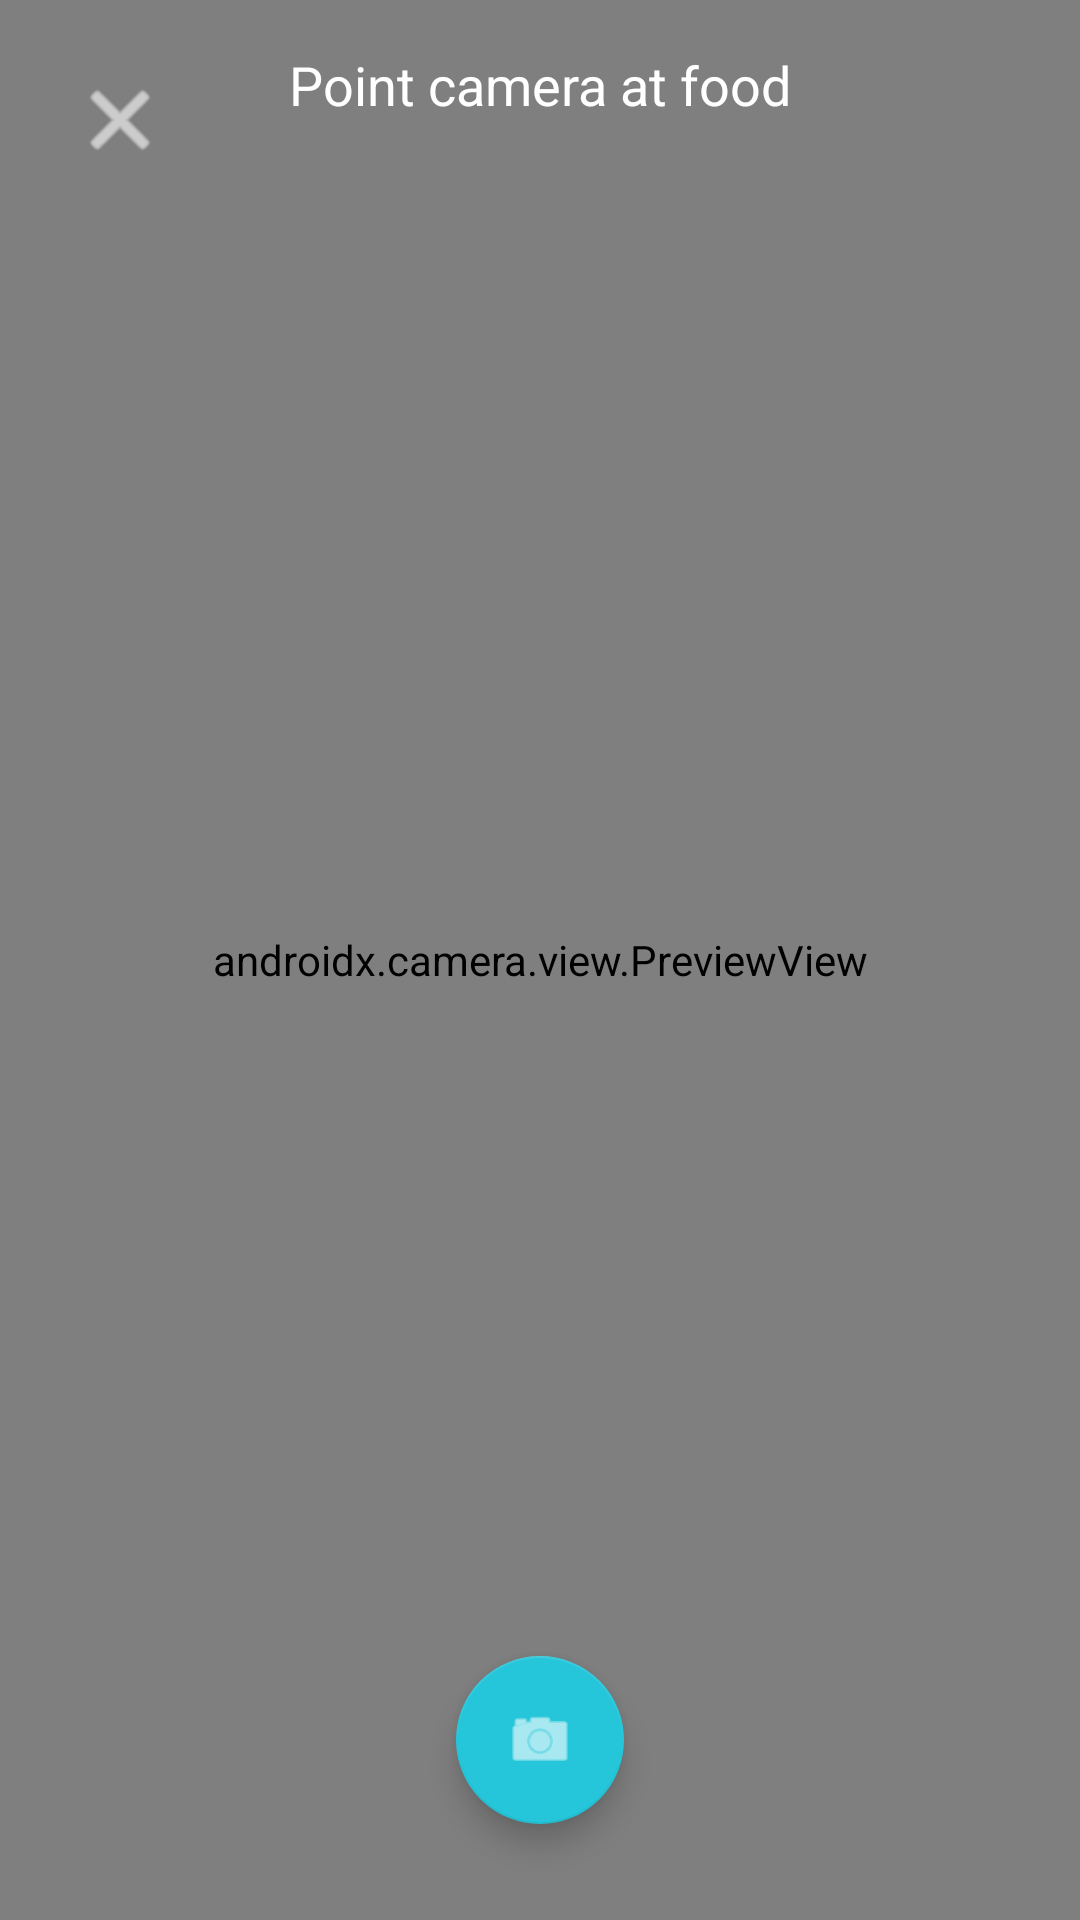

Named icons in this screenshot (1080*1920) and their bounding boxes, [left=x1, top=y1, right=x2, bottom=y2]:
close clear cancel: [left=90, top=90, right=150, bottom=150]
